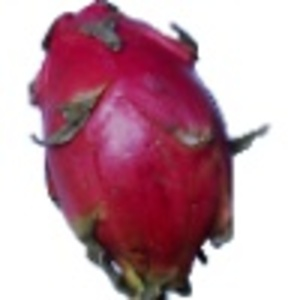pitaia: (27, 1, 269, 300)
